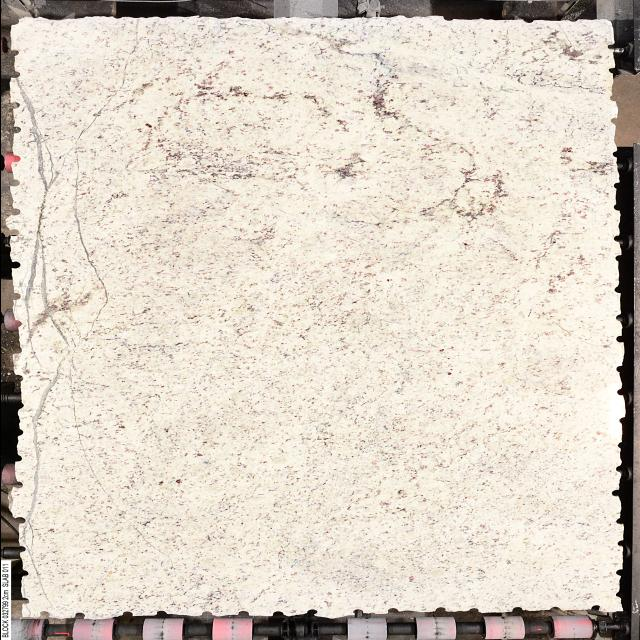chapa: (8, 16, 623, 619)
veio: (8, 68, 22, 80), (6, 178, 22, 188), (8, 346, 24, 356), (612, 567, 625, 579), (200, 610, 218, 618), (8, 154, 20, 166), (6, 228, 20, 238), (6, 208, 20, 218), (7, 260, 21, 270), (10, 124, 23, 134), (608, 490, 624, 498), (74, 610, 86, 620), (349, 608, 364, 616), (606, 66, 618, 76), (8, 292, 20, 302), (519, 15, 532, 24), (35, 610, 49, 618), (236, 610, 250, 618), (304, 608, 316, 617), (546, 606, 564, 612), (610, 285, 622, 294), (20, 596, 30, 606), (614, 334, 624, 344), (610, 180, 620, 190), (118, 611, 132, 618), (510, 606, 524, 613), (613, 516, 625, 524), (612, 364, 624, 372), (610, 203, 622, 211), (609, 117, 621, 125), (8, 102, 20, 110), (12, 516, 24, 524), (590, 604, 601, 612), (614, 540, 628, 546), (154, 610, 164, 618), (272, 610, 282, 618), (612, 314, 622, 322), (611, 150, 621, 158), (438, 16, 451, 22), (466, 608, 481, 613), (385, 608, 397, 614), (434, 607, 446, 613), (616, 416, 625, 424), (614, 388, 623, 396), (12, 481, 22, 488), (612, 255, 621, 262), (612, 235, 620, 242)
